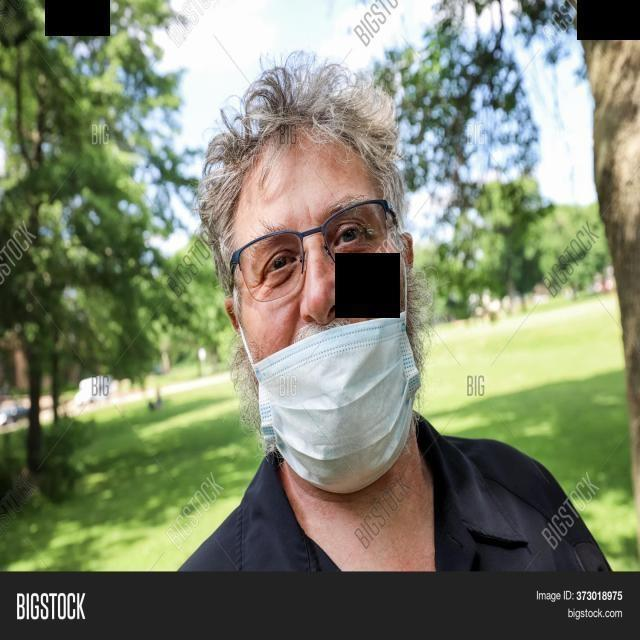hairnet: (217, 264, 416, 501)
